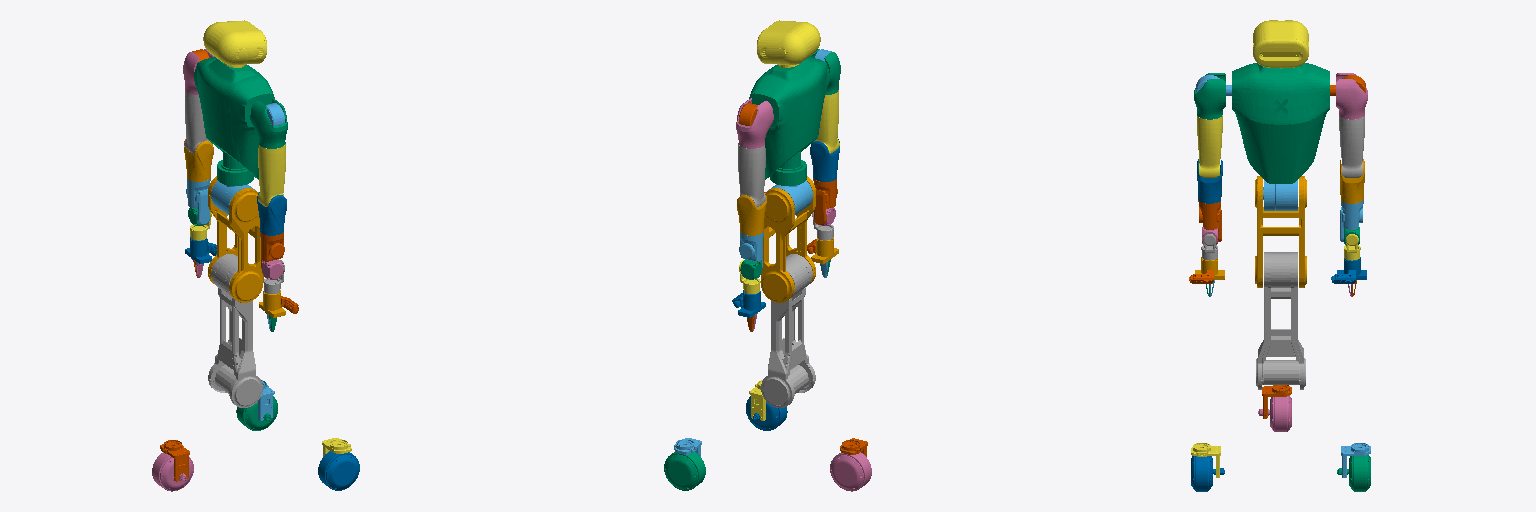
--- Render facts (derived) ---
3 views of the same robot in one strip: view 1: azimuth 30°, elevation 25°; view 2: azimuth 150°, elevation 25°; view 3: azimuth 270°, elevation 25° (orthographic).
Model R1Pro with 38 links and 37 joints (21 revolute, 3 continuous, 4 prismatic, 9 fixed), rooted at base_link, posed every joint at zero.
Visible links, largest first — view 1: torso_link4, torso_link1, torso_link2, zed_link, right_link3, wheel_motor_link2, right_link2, left_link3, left_link4, right_link4, wheel_motor_link3, left_link5 (+4 smaller); view 2: torso_link4, torso_link1, torso_link2, zed_link, left_link3, wheel_motor_link3, wheel_motor_link1, left_link2, right_link3, right_link4, left_link4, right_link5 (+3 smaller); view 3: torso_link4, torso_link1, zed_link, torso_link2, right_link3, left_link3, left_link2, right_link2, torso_link3, wheel_motor_link1, wheel_motor_link2, wheel_motor_link3 (+4 smaller).
Boxes of the visible links, left/top/right/bottom form: torso_link4: left=194, top=57, right=274, bottom=185; torso_link1: left=208, top=254, right=262, bottom=407; torso_link2: left=208, top=176, right=263, bottom=302; zed_link: left=203, top=20, right=266, bottom=67; right_link3: left=258, top=144, right=285, bottom=206; wheel_motor_link2: left=318, top=451, right=359, bottom=490; right_link2: left=250, top=98, right=287, bottom=148; left_link3: left=184, top=90, right=209, bottom=153; left_link4: left=184, top=137, right=213, bottom=181; right_link4: left=257, top=192, right=286, bottom=235; wheel_motor_link3: left=152, top=452, right=193, bottom=491; left_link5: left=186, top=178, right=210, bottom=224; torso_link4: left=749, top=57, right=829, bottom=185; torso_link1: left=761, top=254, right=815, bottom=407; torso_link2: left=761, top=176, right=815, bottom=302; zed_link: left=757, top=20, right=820, bottom=67; left_link3: left=738, top=144, right=765, bottom=206; wheel_motor_link3: left=830, top=452, right=871, bottom=491; wheel_motor_link1: left=664, top=452, right=705, bottom=490; left_link2: left=736, top=98, right=773, bottom=148; right_link3: left=814, top=90, right=839, bottom=153; right_link4: left=810, top=137, right=839, bottom=181; left_link4: left=737, top=192, right=766, bottom=235; right_link5: left=813, top=178, right=837, bottom=224; torso_link4: left=1232, top=63, right=1329, bottom=183; torso_link1: left=1256, top=252, right=1305, bottom=389; zed_link: left=1253, top=20, right=1308, bottom=68; torso_link2: left=1255, top=176, right=1306, bottom=287; right_link3: left=1197, top=115, right=1222, bottom=177; left_link3: left=1339, top=115, right=1364, bottom=177; left_link2: left=1336, top=73, right=1367, bottom=119; right_link2: left=1194, top=73, right=1225, bottom=119; torso_link3: left=1263, top=180, right=1297, bottom=210; wheel_motor_link1: left=1337, top=455, right=1370, bottom=491; wheel_motor_link2: left=1191, top=456, right=1224, bottom=491; wheel_motor_link3: left=1258, top=395, right=1291, bottom=431.
Size in the robot's own frame: 0.636 by 0.6454 by 1.7 metres.
35 mesh visuals loaded from 19 distinct referenced files (18 OBJ); not drawn: 1 (reference not matched to a file when rendering).

robot.urdf — R1Pro:
<?xml version="1.0" ?>
<!-- =================================================================================== -->
<!-- |    This document was autogenerated by xacro from robot.xacro                    | -->
<!-- |    EDITING THIS FILE BY HAND IS NOT RECOMMENDED                                 | -->
<!-- =================================================================================== -->
<robot name="R1Pro">
  <!-- Base Link -->
  <link name="base_link">
    <inertial>
      <origin xyz="-0.0024126 -8.9626E-05 0.13736"/>
      <mass value="47.63"/>
      <inertia ixx="1.578" ixy="-1.2021E-05" ixz="0.053642" iyy="1.462" iyz="7.297E-06" izz="2.8318"/>
    </inertial>
    <visual>
      <geometry>
        <mesh filename="package://galaxea_r1_description/meshes/base_link.obj"/>
      </geometry>
    </visual>
    <collision>
      <geometry>
        <mesh filename="package://galaxea_r1_description/meshes/base_link.obj"/>
      </geometry>
    </collision>
  </link>
  <!-- Steer Motor Link 1 -->
  <link name="steer_motor_link1">
    <inertial>
      <origin xyz="0.00098921 -0.034312 -0.034597"/>
      <mass value="1.2"/>
      <inertia ixx="8.8522E-05" ixy="-3.7755E-06" ixz="4.5456E-09" iyy="7.5352E-05" iyz="-7.0316E-07" izz="0.00010165"/>
    </inertial>
    <visual>
      <geometry>
        <mesh filename="package://galaxea_r1_description/meshes/steer_motor.obj"/>
      </geometry>
    </visual>
    <collision>
      <geometry>
        <mesh filename="package://galaxea_r1_description/meshes/steer_motor.obj"/>
      </geometry>
    </collision>
  </link>
  <!-- Steer Motor Joint 1: Base to Steer Motor 1 -->
  <joint name="steer_motor_joint1" type="revolute">
    <origin xyz="0.21516 0.28 0.12375"/>
    <parent link="base_link"/>
    <child link="steer_motor_link1"/>
    <axis xyz="0 0 1"/>
    <limit effort="44" lower="-1.5708" upper="1.5708" velocity="3.1416"/>
  </joint>
  <!-- Wheel Motor Link 1 -->
  <link name="wheel_motor_link1">
    <inertial>
      <origin xyz="-2.6184E-06 0.0015607 1.6575E-07"/>
      <mass value="5"/>
      <inertia ixx="0.00089952" ixy="6.916E-08" ixz="7.5501E-10" iyy="0.0015854" iyz="7.6011E-12" izz="0.00089958"/>
    </inertial>
    <visual>
      <geometry>
        <mesh filename="package://galaxea_r1_description/meshes/wheel_motor.obj"/>
      </geometry>
    </visual>
    <collision>
      <geometry>
        <mesh filename="package://galaxea_r1_description/meshes/wheel_motor.obj"/>
      </geometry>
    </collision>
  </link>
  <!-- Wheel Motor Joint 1: Steer Motor 1 to Wheel Motor 1 -->
  <joint name="wheel_motor_joint1" type="continuous">
    <origin rpy="0 0 3.14159" xyz="0 0 -0.09525"/>
    <parent link="steer_motor_link1"/>
    <child link="wheel_motor_link1"/>
    <axis xyz="0 1 0"/>
  </joint>
  <!-- Steer Motor Link 2 -->
  <link name="steer_motor_link2">
    <inertial>
      <origin xyz="0.00098879 0.034317 -0.034601"/>
      <mass value="1.2"/>
      <inertia ixx="8.8509E-05" ixy="3.7728E-06" ixz="4.584E-09" iyy="7.5337E-05" iyz="7.0145E-07" izz="0.00010162"/>
    </inertial>
    <visual>
      <origin rpy="0 0 3.14159"/>
      <geometry>
        <mesh filename="package://galaxea_r1_description/meshes/steer_motor.obj"/>
      </geometry>
    </visual>
    <collision>
      <origin rpy="0 0 3.14159"/>
      <geometry>
        <mesh filename="package://galaxea_r1_description/meshes/steer_motor.obj"/>
      </geometry>
    </collision>
  </link>
  <!-- Steer Motor Joint 2: Base to Steer Motor 2 -->
  <joint name="steer_motor_joint2" type="revolute">
    <origin xyz="0.21516 -0.28 0.12375"/>
    <parent link="base_link"/>
    <child link="steer_motor_link2"/>
    <axis xyz="0 0 1"/>
    <limit effort="44" lower="-1.5708" upper="1.5708" velocity="3.1416"/>
  </joint>
  <!-- Wheel Motor Link 2 -->
  <link name="wheel_motor_link2">
    <inertial>
      <origin xyz="2.6199E-06 -0.0015607 1.6573E-07"/>
      <mass value="5"/>
      <inertia ixx="0.00089952" ixy="6.9163E-08" ixz="-7.5368E-10" iyy="0.0015854" iyz="-7.6749E-12" izz="0.00089958"/>
    </inertial>
    <visual>
      <geometry>
        <mesh filename="package://galaxea_r1_description/meshes/wheel_motor.obj"/>
      </geometry>
    </visual>
    <collision>
      <geometry>
        <mesh filename="package://galaxea_r1_description/meshes/wheel_motor.obj"/>
      </geometry>
    </collision>
  </link>
  <!-- Wheel Motor Joint 2: Steer Motor 2 to Wheel Motor 2 -->
  <joint name="wheel_motor_joint2" type="continuous">
    <origin xyz="0 0 -0.09525"/>
    <parent link="steer_motor_link2"/>
    <child link="wheel_motor_link2"/>
    <axis xyz="0 1 0"/>
  </joint>
  <!-- Steer Motor Link 3 -->
  <link name="steer_motor_link3">
    <inertial>
      <origin xyz="-0.00098879 -0.034317 -0.034601"/>
      <mass value="1.2"/>
      <inertia ixx="8.8509E-05" ixy="3.7728E-06" ixz="-4.584E-09" iyy="7.5337E-05" iyz="-7.0145E-07" izz="0.00010162"/>
    </inertial>
    <visual>
      <geometry>
        <mesh filename="package://galaxea_r1_description/meshes/steer_motor.obj"/>
      </geometry>
    </visual>
    <collision>
      <geometry>
        <mesh filename="package://galaxea_r1_description/meshes/steer_motor.obj"/>
      </geometry>
    </collision>
  </link>
  <!-- Steer Motor Joint 3: Base to Steer Motor 3 -->
  <joint name="steer_motor_joint3" type="revolute">
    <origin xyz="-0.28084 0 0.12375"/>
    <parent link="base_link"/>
    <child link="steer_motor_link3"/>
    <axis xyz="0 0 1"/>
    <limit effort="44" lower="-1.5708" upper="1.5708" velocity="3.1416"/>
  </joint>
  <!-- Wheel Motor Link 3 -->
  <link name="wheel_motor_link3">
    <inertial>
      <origin xyz="2.6203E-06 0.0015607 -1.6564E-07"/>
      <mass value="5"/>
      <inertia ixx="0.00089952" ixy="-6.9072E-08" ixz="7.5036E-10" iyy="0.0015854" iyz="-7.845E-12" izz="0.00089958"/>
    </inertial>
    <visual>
      <geometry>
        <mesh filename="package://galaxea_r1_description/meshes/wheel_motor.obj"/>
      </geometry>
    </visual>
    <collision>
      <geometry>
        <mesh filename="package://galaxea_r1_description/meshes/wheel_motor.obj"/>
      </geometry>
    </collision>
  </link>
  <!-- Wheel Motor Joint 3: Steer Motor 3 to Wheel Motor 3 -->
  <joint name="wheel_motor_joint3" type="continuous">
    <origin rpy="0 0 3.14159" xyz="0 0 -0.09525"/>
    <parent link="steer_motor_link3"/>
    <child link="wheel_motor_link3"/>
    <axis xyz="0 1 0"/>
  </joint>
  <!-- Torso Link 1 -->
  <link name="torso_link1">
    <inertial>
      <origin xyz="0.00065636 0.0032247 0.23142"/>
      <mass value="5.72"/>
      <inertia ixx="0.10931" ixy="7.7893E-06" ixz="-0.00017473" iyy="0.10736" iyz="0.00013763" izz="0.0081222"/>
    </inertial>
    <visual>
      <geometry>
        <mesh filename="package://galaxea_r1_description/meshes/torso_link1.obj"/>
      </geometry>
    </visual>
    <collision>
      <geometry>
        <mesh filename="package://galaxea_r1_description/meshes/torso_link1.obj"/>
      </geometry>
    </collision>
  </link>
  <!-- Torso Joint 1: Base to Torso 1 -->
  <joint name="torso_joint1" type="revolute">
    <origin xyz="-0.032845 0 0.301"/>
    <parent link="base_link"/>
    <child link="torso_link1"/>
    <axis xyz="0 1 0"/>
    <limit effort="500" lower="-1.1345" upper="1.8326" velocity="2.5"/>
  </joint>
  <!-- Torso Link 2 -->
  <link name="torso_link2">
    <inertial>
      <origin xyz="0.0052517 0.014412 0.15711"/>
      <mass value="3.5"/>
      <inertia ixx="0.026081" ixy="-3.3406E-07" ixz="0.00024541" iyy="0.027574" iyz="3.8474E-07" izz="0.0018515"/>
    </inertial>
    <visual>
      <geometry>
        <mesh filename="package://galaxea_r1_description/meshes/torso_link2.obj"/>
      </geometry>
    </visual>
    <collision>
      <geometry>
        <mesh filename="package://galaxea_r1_description/meshes/torso_link2.obj"/>
      </geometry>
    </collision>
  </link>
  <!-- Torso Joint 2: Torso 1 to Torso 2 -->
  <joint name="torso_joint2" type="revolute">
    <origin xyz="0 0 0.4"/>
    <parent link="torso_link1"/>
    <child link="torso_link2"/>
    <axis xyz="0 1 0"/>
    <limit effort="500" lower="-2.7925" upper="2.5307" velocity="2.5"/>
  </joint>
  <!-- Torso Link 3 -->
  <link name="torso_link3">
    <inertial>
      <origin xyz="-7.551E-06 -0.0092667 0.0042124"/>
      <mass value="3.4"/>
      <inertia ixx="0.0014058" ixy="3.5487E-07" ixz="9.0955E-08" iyy="0.0021992" iyz="1.6338E-05" izz="0.0013332"/>
    </inertial>
    <visual>
      <geometry>
        <mesh filename="package://galaxea_r1_description/meshes/torso_link3.obj"/>
      </geometry>
    </visual>
    <collision>
      <geometry>
        <mesh filename="package://galaxea_r1_description/meshes/torso_link3.obj"/>
      </geometry>
    </collision>
  </link>
  <!-- Torso Joint 3: Torso 2 to Torso 3 -->
  <joint name="torso_joint3" type="revolute">
    <origin xyz="0 0 0.3"/>
    <parent link="torso_link2"/>
    <child link="torso_link3"/>
    <axis xyz="0 -1 0"/>
    <limit effort="500" lower="-1.8326" upper="1.5708" velocity="2.5"/>
  </joint>
  <!-- Torso Link 4 -->
  <link name="torso_link4">
    <inertial>
      <origin xyz="-3.7511E-08 5.2756E-07 0.018688"/>
      <mass value="7.4"/>
      <inertia ixx="0.0014989" ixy="2.9183E-08" ixz="-7.7884E-10" iyy="0.001499" iyz="-1.2513E-10" izz="0.0019043"/>
    </inertial>
    <visual>
      <geometry>
        <mesh filename="package://galaxea_r1_description/meshes/torso_link4.obj"/>
      </geometry>
    </visual>
    <collision>
      <geometry>
        <mesh filename="package://galaxea_r1_description/meshes/torso_link4.obj"/>
      </geometry>
    </collision>
  </link>
  <!-- Torso Joint 4: Torso 3 to Torso 4 -->
  <joint name="torso_joint4" type="revolute">
    <origin xyz="0 0 0.09962"/>
    <parent link="torso_link3"/>
    <child link="torso_link4"/>
    <axis xyz="0 0 1"/>
    <limit effort="500" lower="-3.0543" upper="3.0543" velocity="2.5"/>
  </joint>
  <!-- ZED Camera Link -->
  <link name="zed_link">
    <inertial>
      <origin xyz="0.060004 0.015906 -0.068413"/>
      <mass value="2.05"/>
      <inertia ixx="0.010375" ixy="1.9044E-07" ixz="1.5997E-08" iyy="0.014618" iyz="0.00028961" izz="0.012229"/>
    </inertial>
    <visual>
      <geometry>
        <mesh filename="package://galaxea_r1_description/meshes/zed_link.obj"/>
      </geometry>
    </visual>
    <collision>
      <geometry>
        <mesh filename="package://galaxea_r1_description/meshes/zed_link.obj"/>
      </geometry>
    </collision>
  </link>
  <!-- ZED Joint: Torso 4 to ZED -->
  <joint name="zed_joint" type="fixed">
    <origin rpy="-1.9199 0 -1.5708" xyz="0.065512 0.060005 0.47598"/>
    <parent link="torso_link4"/>
    <child link="zed_link"/>
    <axis xyz="0 0 0"/>
  </joint>
  <link name="left_base_link">
    <inertial>
      <origin xyz="0.00026981 0.034587 0"/>
      <mass value="1.48"/>
      <inertia ixx="0.0010298" ixy="5.2194E-06" ixz="-1.2182E-07" iyy="0.0014076" iyz="-3.9334E-09" izz="0.0010201"/>
    </inertial>
    <visual>
      <geometry>
        <mesh filename="package://galaxea_r1pro_description/meshes/pro_arm/base.obj" scale="1 1 1"/>
      </geometry>
    </visual>
    <collision>
      <geometry>
        <mesh filename="package://galaxea_r1pro_description/meshes/pro_arm/base.obj" scale="1 1 1"/>
      </geometry>
    </collision>
  </link>
  <!-- Arm Link 1 -->
  <link name="left_link1">
    <inertial>
      <origin xyz="0.00042258 0.074131 7.9156E-05"/>
      <mass value="1.135"/>
      <inertia ixx="0.00061603" ixy="-1.1635E-06" ixz="-6.9725E-07" iyy="0.00030259" iyz="-6.2894E-07" izz="0.00047136"/>
    </inertial>
    <visual>
      <geometry>
        <mesh filename="package://galaxea_r1pro_description/meshes/pro_arm/link1.obj" scale="1 1 1"/>
      </geometry>
    </visual>
    <collision>
      <geometry>
        <mesh filename="package://galaxea_r1pro_description/meshes/pro_arm/link1.obj" scale="1 1 1"/>
      </geometry>
    </collision>
  </link>
  <!-- Arm Link 2 -->
  <link name="left_link2">
    <inertial>
      <origin xyz="-0.026826 -0.0040392 -0.031835"/>
      <mass value="0.92"/>
      <inertia ixx="0.00037378" ixy="-7.5909E-07" ixz="2.9042E-06" iyy="0.00033872" iyz="1.2166E-05" izz="0.00032361"/>
    </inertial>
    <visual>
      <geometry>
        <mesh filename="package://galaxea_r1pro_description/meshes/pro_arm/link2.obj" scale="1 1 1"/>
      </geometry>
    </visual>
    <collision>
      <geometry>
        <mesh filename="package://galaxea_r1pro_description/meshes/pro_arm/link2.obj" scale="1 1 1"/>
      </geometry>
    </collision>
  </link>
  <!-- Arm Link 3 -->
  <link name="left_link3">
    <inertial>
      <origin xyz="0.0053849 -0.00086892 -0.1126"/>
      <mass value="1.245"/>
      <inertia ixx="0.00072339" ixy="-3.3477E-06" ixz="-0.00012824" iyy="0.00073856" iyz="-8.3574E-06" izz="0.00037352"/>
    </inertial>
    <visual>
      <geometry>
        <mesh filename="package://galaxea_r1pro_description/meshes/pro_arm/link3.obj"/>
      </geometry>
    </visual>
    <collision>
      <geometry>
        <mesh filename="package://galaxea_r1pro_description/meshes/pro_arm/link3.obj"/>
      </geometry>
    </collision>
  </link>
  <!-- Arm Link 4 -->
  <link name="left_link4">
    <inertial>
      <origin xyz="-0.0011018 -0.036243 -0.042164"/>
      <mass value="0.827"/>
      <inertia ixx="0.00013884" ixy="7.8394E-08" ixz="3.5926E-06" iyy="0.00019751" iyz="1.4227E-06" izz="0.00010229"/>
    </inertial>
    <visual>
      <geometry>
        <mesh filename="package://galaxea_r1pro_description/meshes/pro_arm/link4.obj"/>
      </geometry>
    </visual>
    <collision>
      <geometry>
        <mesh filename="package://galaxea_r1pro_description/meshes/pro_arm/link4.obj"/>
      </geometry>
    </collision>
  </link>
  <!-- Arm Link 5 -->
  <link name="left_link5">
    <inertial>
      <origin xyz="0 -0.0028035 -0.062981"/>
      <mass value="0.939"/>
      <inertia ixx="0.00070496" ixy="1.4329E-08" ixz="-2.9036E-09" iyy="0.00067006" iyz="-5.1951E-05" izz="0.00032998"/>
    </inertial>
    <visual>
      <geometry>
        <mesh filename="package://galaxea_r1pro_description/meshes/pro_arm/link5.obj" scale="1 1 1"/>
      </geometry>
    </visual>
    <collision>
      <geometry>
        <mesh filename="package://galaxea_r1pro_description/meshes/pro_arm/link5.obj" scale="1 1 1"/>
      </geometry>
    </collision>
  </link>
  <!-- Arm Link 6 -->
  <link name="left_link6">
    <inertial>
      <origin xyz="0.0017919 0.027487 0.00025471"/>
      <mass value="0.527"/>
      <inertia ixx="8.5442E-05" ixy="-1.5351E-07" ixz="8.3797E-07" iyy="8.1186E-05" iyz="-2.1972E-08" izz="8.2736E-05"/>
    </inertial>
    <visual>
      <geometry>
        <mesh filename="package://galaxea_r1pro_description/meshes/pro_arm/link6.obj" scale="1 1 1"/>
      </geometry>
    </visual>
    <collision>
      <geometry>
        <mesh filename="package://galaxea_r1pro_description/meshes/pro_arm/link6.obj" scale="1 1 1"/>
      </geometry>
    </collision>
  </link>
  <!-- Arm Link 7 -->
  <link name="left_link7">
    <inertial>
      <origin xyz="-0.022945 0 -0.056525"/>
      <mass value="0.185"/>
      <inertia ixx="4.2564E-05" ixy="-2.1577E-09" ixz="-6.9368E-06" iyy="4.5515E-05" iyz="-1.9389E-09" izz="4.7946E-05"/>
    </inertial>
    <visual>
      <geometry>
        <mesh filename="package://galaxea_r1pro_description/meshes/pro_arm/link7.obj"/>
      </geometry>
    </visual>
    <collision>
      <geometry>
        <mesh filename="package://galaxea_r1pro_description/meshes/pro_arm/link7.obj"/>
      </geometry>
    </collision>
  </link>
  <!-- Arm Joints and Links -->
  <joint name="left_base_joint" type="fixed">
    <origin xyz="-0.00048618 0.097234 0.30302"/>
    <parent link="torso_link4"/>
    <child link="left_base_link"/>
  </joint>
  <!-- Arm Joints -->
  <joint name="left_joint1" type="revolute">
    <origin xyz="0 0.0735 0"/>
    <parent link="left_base_link"/>
    <child link="left_link1"/>
    <axis xyz="0 1 0"/>
    <limit effort="55" lower="-4.4506" upper="1.3090" velocity="7.1209"/>
  </joint>
  <joint name="left_joint2" type="revolute">
    <origin xyz="0.025012 0.081265 0"/>
    <parent link="left_link1"/>
    <child link="left_link2"/>
    <axis xyz="1 0 0"/>
    <limit effort="55" lower="-0.1745" upper="3.1416" velocity="7.1209"/>
  </joint>
  <joint name="left_joint3" type="revolute">
    <origin xyz="-0.025012 0 -0.1155"/>
    <parent link="left_link2"/>
    <child link="left_link3"/>
    <axis xyz="0 0 1"/>
    <limit effort="25" lower="-2.356196" upper="2.356196" velocity="8.3776"/>
  </joint>
  <joint name="left_joint4" type="revolute">
    <origin xyz="0 0.035065 -0.1945"/>
    <parent link="left_link3"/>
    <child link="left_link4"/>
    <axis xyz="0 1 0"/>
    <limit effort="25" lower="-2.0944" upper="0.3491" velocity="8.3776"/>
  </joint>
  <joint name="left_joint5" type="revolute">
    <origin xyz="0 -0.035065 -0.095"/>
    <parent link="left_link4"/>
    <child link="left_link5"/>
    <axis xyz="0 0 1"/>
    <limit effort="18" lower="-2.356196" upper="2.356196" velocity="10.4720"/>
  </joint>
  <joint name="left_joint6" type="revolute">
    <origin xyz="0 -0.028 -0.16305"/>
    <parent link="left_link5"/>
    <child link="left_link6"/>
    <axis xyz="0 1 0"/>
    <limit effort="18" lower="-1.047198" upper="1.047198" velocity="10.4720"/>
  </joint>
  <joint name="left_joint7" type="revolute">
    <origin xyz="0.0295 0.028 0"/>
    <parent link="left_link6"/>
    <child link="left_link7"/>
    <axis xyz="1 0 0"/>
    <limit effort="18" lower="-1.5708" upper="1.5708" velocity="10.4720"/>
  </joint>
  <link name="left_gripper_base">
    <inertial>
      <origin xyz="-0.0311072323899603 1.17979991887118E-08 7.93394685505433E-08"/>
      <mass value="0.604"/>
      <inertia ixx="0.000175881544189539" ixy="-6.06026450851008E-11" ixz="5.30643405624365E-10" iyy="9.86379407701341E-05" iyz="-8.18686692495892E-08" izz="0.000165121280580029"/>
    </inertial>
    <visual>
      <geometry>
        <mesh filename="package://galaxea_a1_description/meshes/gripper/gripper_link.obj"/>
      </geometry>
    </visual>
    <collision>
      <geometry>
        <mesh filename="package://galaxea_a1_description/meshes/gripper/gripper_link.obj"/>
      </geometry>
    </collision>
  </link>
  <link name="left_finger1">
    <inertial>
      <origin xyz="-0.0195895895552112 -0.0151136845490034 0.00542254359093075"/>
      <mass value="0.027"/>
      <inertia ixx="2.40569358477209E-06" ixy="3.9898459609048E-07" ixz="5.12152762183641E-08" iyy="5.71079298307516E-06" iyz="6.19467902008363E-08" izz="6.48482183930358E-06"/>
    </inertial>
    <visual>
      <geometry>
        <mesh filename="package://galaxea_a1_description/meshes/gripper/finger.obj"/>
      </geometry>
    </visual>
    <collision>
      <geometry>
        <mesh filename="package://galaxea_a1_description/meshes/gripper/finger.obj"/>
      </geometry>
    </collision>
  </link>
  <joint name="left_gripper_joint" type="prismatic">
    <origin xyz="0.03689 0.013453 0.00012059"/>
    <parent link="left_gripper_base"/>
    <child link="left_finger1"/>
    <axis xyz="0 1 0"/>
    <limit effort="100" lower="0" upper="0.05" velocity="0.25"/>
  </joint>
  <link name="left_finger2">
    <inertial>
      <origin xyz="-0.0195895857999098 0.0151136893508115 -0.00542254357246619"/>
      <mass value="0.027"/>
      <inertia ixx="2.40569340151687E-06" ixy="-3.98983784827124E-07" ixz="-5.12152683073981E-08" iyy="5.71079321589929E-06" iyz="6.19467953006536E-08" izz="6.48482187274222E-06"/>
    </inertial>
    <visual>
      <geometry>
        <mesh filename="package://galaxea_a1_description/meshes/gripper/finger.obj" scale="1 -1 -1"/>
      </geometry>
    </visual>
    <collision>
      <geometry>
        <mesh filename="package://galaxea_a1_description/meshes/gripper/finger.obj" scale="1 -1 -1"/>
      </geometry>
    </collision>
  </link>
  <joint name="left_gripper_joint2" type="prismatic">
    <origin xyz="0.03689 -0.013453 -0.00012059"/>
    <parent link="left_gripper_base"/>
    <child link="left_finger2"/>
    <axis xyz="0 -1 0"/>
    <limit effort="100" lower="0" upper="0.05" velocity="0.25"/>
    <mimic joint="left_gripper_joint" multiplier="1" offset="0"/>
  </joint>
  <link name="left_gripper_center"/>
  <joint name="left_gripper_center_joint" type="fixed">
    <origin xyz="0.03689 0 -0.00012059"/>
    <parent link="left_gripper_base"/>
    <child link="left_gripper_center"/>
  </joint>
  <joint name="left_gripper_base_joint" type="fixed">
    <origin rpy="0 1.5708 0" xyz="-0.0295 0 -0.16065"/>
    <parent link="left_link7"/>
    <child link="left_gripper_base"/>
  </joint>
  <link name="right_base_link">
    <inertial>
      <origin xyz="0.00026981 -0.034587 0"/>
      <mass value="1.48"/>
      <inertia ixx="0.0010298" ixy="5.2194E-06" ixz="-1.2182E-07" iyy="0.0014076" iyz="-3.9334E-09" izz="0.0010201"/>
    </inertial>
    <visual>
      <geometry>
        <mesh filename="package://galaxea_r1pro_description/meshes/pro_arm/base.obj" scale="1 -1 1"/>
      </geometry>
    </visual>
    <collision>
      <geometry>
        <mesh filename="package://galaxea_r1pro_description/meshes/pro_arm/base.obj" scale="1 -1 1"/>
      </geometry>
    </collision>
  </link>
  <!-- Arm Link 1 -->
  <link name="right_link1">
    <inertial>
      <origin xyz="0.00042258 -0.074131 7.9156E-05"/>
      <mass value="1.135"/>
      <inertia ixx="0.00061603" ixy="-1.1635E-06" ixz="-6.9725E-07" iyy="0.00030259" iyz="-6.2894E-07" izz="0.00047136"/>
    </inertial>
    <visual>
      <geometry>
        <mesh filename="package://galaxea_r1pro_description/meshes/pro_arm/link1.obj" scale="1 -1 1"/>
      </geometry>
    </visual>
    <collision>
      <geometry>
        <mesh filename="package://galaxea_r1pro_description/meshes/pro_arm/link1.obj" scale="1 -1 1"/>
      </geometry>
    </collision>
  </link>
  <!-- Arm Link 2 -->
  <link name="right_link2">
    <inertial>
      <origin xyz="-0.026826 0.0040392 -0.031835"/>
      <mass value="0.92"/>
      <inertia ixx="0.00037378" ixy="-7.5909E-07" ixz="2.9042E-06" iyy="0.00033872" iyz="1.2166E-05" izz="0.00032361"/>
    </inertial>
    <visual>
      <geometry>
        <mesh filename="package://galaxea_r1pro_description/meshes/pro_arm/link2.obj" scale="1 -1 1"/>
      </geometry>
    </visual>
    <collision>
      <geometry>
        <mesh filename="package://galaxea_r1pro_description/meshes/pro_arm/link2.obj" scale="1 -1 1"/>
      </geometry>
    </collision>
  </link>
  <!-- Arm Link 3 -->
  <link name="right_link3">
    <inertial>
      <origin xyz="0.0053849 -0.00086892 -0.1126"/>
      <mass value="1.245"/>
      <inertia ixx="0.00072339" ixy="-3.3477E-06" ixz="-0.00012824" iyy="0.00073856" iyz="-8.3574E-06" izz="0.00037352"/>
    </inertial>
    <visual>
      <geometry>
        <mesh filename="package://galaxea_r1pro_description/meshes/pro_arm/link3.obj"/>
      </geometry>
    </visual>
    <collision>
      <geometry>
        <mesh filename="package://galaxea_r1pro_description/meshes/pro_arm/link3.obj"/>
      </geometry>
    </collision>
  </link>
  <!-- Arm Link 4 -->
  <link name="right_link4">
    <inertial>
      <origin xyz="-0.0011018 -0.036243 -0.042164"/>
      <mass value="0.827"/>
      <inertia ixx="0.00013884" ixy="7.8394E-08" ixz="3.5926E-06" iyy="0.00019751" iyz="1.4227E-06" izz="0.00010229"/>
    </inertial>
    <visual>
      <geometry>
        <mesh filename="package://galaxea_r1pro_description/meshes/pro_arm/link4.obj"/>
      </geometry>
    </visual>
    <collision>
      <geometry>
        <mesh filename="package://galaxea_r1pro_description/meshes/pro_arm/link4.obj"/>
      </geometry>
    </collision>
  </link>
  <!-- Arm Link 5 -->
  <link name="right_link5">
    <inertial>
      <origin xyz="0 0.0028035 -0.062981"/>
      <mass value="0.939"/>
      <inertia ixx="0.00070496" ixy="1.4329E-08" ixz="-2.9036E-09" iyy="0.00067006" iyz="-5.1951E-05" izz="0.00032998"/>
    </inertial>
    <visual>
      <geometry>
        <mesh filename="package://galaxea_r1pro_description/meshes/pro_arm/link5.obj" scale="1 -1 1"/>
      </geometry>
    </visual>
    <collision>
      <geometry>
        <mesh filename="package://galaxea_r1pro_description/meshes/pro_arm/link5.obj" scale="1 -1 1"/>
      </geometry>
    </collision>
  </link>
  <!-- Arm Link 6 -->
  <link name="right_link6">
    <inertial>
      <origin xyz="0.0017919 -0.027487 0.00025471"/>
      <mass value="0.527"/>
      <inertia ixx="8.5442E-05" ixy="-1.5351E-07" ixz="8.3797E-07" iyy="8.1186E-05" iyz="-2.1972E-08" izz="8.2736E-05"/>
    </inertial>
    <visual>
      <geometry>
        <mesh filename="package://galaxea_r1pro_description/meshes/pro_arm/link6.obj" scale="1 -1 1"/>
      </geometry>
    </visual>
    <collision>
      <geometry>
        <mesh filename="package://galaxea_r1pro_description/meshes/pro_arm/link6.obj" scale="1 -1 1"/>
      </geometry>
    </collision>
  </link>
  <!-- Arm Link 7 -->
  <link name="right_link7">
    <inertial>
      <origin xyz="-0.022945 0 -0.056525"/>
      <mass value="0.185"/>
      <inertia ixx="4.2564E-05" ixy="-2.1577E-09" ixz="-6.9368E-06" iyy="4.5515E-05" iyz="-1.9389E-09" izz="4.7946E-05"/>
    </inertial>
    <visual>
      <geometry>
        <mesh filename="package://galaxea_r1pro_description/meshes/pro_arm/link7.obj"/>
      </geometry>
    </visual>
    <collision>
      <geometry>
        <mesh filename="package://galaxea_r1pro_description/meshes/pro_arm/link7.obj"/>
      </geometry>
    </collision>
  </link>
  <!-- Arm Joints and Links -->
  <joint name="right_base_joint" type="fixed">
    <origin xyz="-0.00048618 -0.097234 0.30302"/>
    <parent link="torso_link4"/>
    <child link="right_base_link"/>
  </joint>
  <!-- Arm Joints -->
  <joint name="right_joint1" type="revolute">
    <origin xyz="0 -0.0735 0"/>
    <parent link="right_base_link"/>
    <child link="right_link1"/>
    <axis xyz="0 1 0"/>
    <limit effort="55" lower="-4.4506" upper="1.3090" velocity="7.1209"/>
  </joint>
  <joint name="right_joint2" type="revolute">
    <origin xyz="0.025012 -0.081265 0"/>
    <parent link="right_link1"/>
    <child link="right_link2"/>
    <axis xyz="-1 0 0"/>
    <limit effort="55" lower="-0.1745" upper="3.1416" velocity="7.1209"/>
  </joint>
  <joint name="right_joint3" type="revolute">
    <origin xyz="-0.025012 0 -0.1155"/>
    <parent link="right_link2"/>
    <child link="right_link3"/>
    <axis xyz="0 0 1"/>
    <limit effort="25" lower="-2.356196" upper="2.356196" velocity="8.3776"/>
  </joint>
  <joint name="right_joint4" type="revolute">
    <origin xyz="0 0.035065 -0.1945"/>
    <parent link="right_link3"/>
    <child link="right_link4"/>
    <axis xyz="0 1 0"/>
    <limit effort="25" lower="-2.0944" upper="0.3491" velocity="8.3776"/>
  </joint>
  <joint name="right_joint5" type="revolute">
    <origin xyz="0 -0.035065 -0.095"/>
    <parent link="right_link4"/>
    <child link="right_link5"/>
    <axis xyz="0 0 1"/>
    <limit effort="18" lower="-2.356196" upper="2.356196" velocity="10.4720"/>
  </joint>
  <joint name="right_joint6" type="revolute">
    <origin xyz="0 0.028 -0.16305"/>
    <parent link="right_link5"/>
    <child link="right_link6"/>
    <axis xyz="0 1 0"/>
    <limit effort="18" lower="-1.047198" upper="1.047198" velocity="10.4720"/>
  </joint>
  <joint name="right_joint7" type="revolute">
    <origin xyz="0.0295 -0.028 0"/>
    <parent link="right_link6"/>
    <child link="right_link7"/>
    <axis xyz="1 0 0"/>
    <limit effort="18" lower="-1.5708" upper="1.5708" velocity="10.4720"/>
  </joint>
  <link name="right_gripper_base">
    <inertial>
      <origin xyz="-0.0311072323899603 1.17979991887118E-08 7.93394685505433E-08"/>
      <mass value="0.604"/>
      <inertia ixx="0.000175881544189539" ixy="-6.06026450851008E-11" ixz="5.30643405624365E-10" iyy="9.86379407701341E-05" iyz="-8.18686692495892E-08" izz="0.000165121280580029"/>
    </inertial>
    <visual>
      <geometry>
        <mesh filename="package://galaxea_a1_description/meshes/gripper/gripper_link.obj"/>
      </geometry>
    </visual>
    <collision>
      <geometry>
        <mesh filename="package://galaxea_a1_description/meshes/gripper/gripper_link.obj"/>
      </geometry>
    </collision>
  </link>
  <link name="right_finger1">
    <inertial>
      <origin xyz="-0.0195895895552112 -0.0151136845490034 0.00542254359093075"/>
      <mass value="0.027"/>
      <inertia ixx="2.40569358477209E-06" ixy="3.9898459609048E-07" ixz="5.12152762183641E-08" iyy="5.71079298307516E-06" iyz="6.19467902008363E-08" izz="6.48482183930358E-06"/>
    </inertial>
    <visual>
      <geometry>
        <mesh filename="package://galaxea_a1_description/meshes/gripper/finger.obj"/>
      </geometry>
    </visual>
    <collision>
      <geometry>
        <mesh filename="package://galaxea_a1_description/meshes/gripper/finger.obj"/>
      </geometry>
    </collision>
  </link>
  <joint name="right_gripper_joint" type="prismatic">
    <origin xyz="0.03689 0.013453 0.00012059"/>
    <parent link="right_gripper_base"/>
    <child link="right_finger1"/>
    <axis xyz="0 1 0"/>
    <limit effort="100" lower="0" upper="0.05" velocity="0.25"/>
  </joint>
  <link name="right_finger2">
    <inertial>
      <origin xyz="-0.0195895857999098 0.0151136893508115 -0.00542254357246619"/>
      <mass value="0.027"/>
      <inertia ixx="2.40569340151687E-06" ixy="-3.98983784827124E-07" ixz="-5.12152683073981E-08" iyy="5.71079321589929E-06" iyz="6.19467953006536E-08" izz="6.48482187274222E-06"/>
    </inertial>
    <visual>
      <geometry>
        <mesh filename="package://galaxea_a1_description/meshes/gripper/finger.obj" scale="1 -1 -1"/>
      </geometry>
    </visual>
    <collision>
      <geometry>
        <mesh filename="package://galaxea_a1_description/meshes/gripper/finger.obj" scale="1 -1 -1"/>
      </geometry>
    </collision>
  </link>
  <joint name="right_gripper_joint2" type="prismatic">
    <origin xyz="0.03689 -0.013453 -0.00012059"/>
    <parent link="right_gripper_base"/>
    <child link="right_finger2"/>
    <axis xyz="0 -1 0"/>
    <limit effort="100" lower="0" upper="0.05" velocity="0.25"/>
    <mimic joint="right_gripper_joint" multiplier="1" offset="0"/>
  </joint>
  <link name="right_gripper_center"/>
  <joint name="right_gripper_center_joint" type="fixed">
    <origin xyz="0.03689 0 -0.00012059"/>
    <parent link="right_gripper_base"/>
    <child link="right_gripper_center"/>
  </joint>
  <joint name="right_gripper_base_joint" type="fixed">
    <origin rpy="0 1.5708 0" xyz="-0.0295 0 -0.16065"/>
    <parent link="right_link7"/>
    <child link="right_gripper_base"/>
  </joint>
  <!-- RealSense Camera Link -->
  <link name="left_realsense_link">
    <inertial>
      <origin xyz="0.022169 0.0060171 -0.017353"/>
      <mass value="0.175"/>
      <inertia ixx="6.965E-06" ixy="2.6612E-06" ixz="1.2797E-06" iyy="2.3281E-05" iyz="-1.4268E-06" izz="2.5513E-05"/>
    </inertial>
    <visual>
      <geometry>
        <mesh filename="package://galaxea_r1_description/meshes/camera_link.obj"/>
      </geometry>
    </visual>
    <collision>
      <geometry>
        <mesh filename="package://galaxea_r1_description/meshes/camera_link.obj"/>
      </geometry>
    </collision>
  </link>
  <!-- RealSense Joint: Arm 7 to Camera -->
  <joint name="left_realsense_joint" type="fixed">
    <origin rpy="2.70516 -0.0077831 -1.5708" xyz="0.02101 0.0028934 -0.1555183"/>
    <parent link="left_link7"/>
    <child link="left_realsense_link"/>
  </joint>
  <!-- RealSense Camera Link -->
  <link name="right_realsense_link">
    <inertial>
      <origin xyz="0.022169 0.0060171 -0.017353"/>
      <mass value="0.175"/>
      <inertia ixx="6.965E-06" ixy="2.6612E-06" ixz="1.2797E-06" iyy="2.3281E-05" iyz="-1.4268E-06" izz="2.5513E-05"/>
    </inertial>
    <visual>
      <geometry>
        <mesh filename="package://galaxea_r1_description/meshes/camera_link.obj"/>
      </geometry>
    </visual>
    <collision>
      <geometry>
        <mesh filename="package://galaxea_r1_description/meshes/camera_link.obj"/>
      </geometry>
    </collision>
  </link>
  <!-- RealSense Joint: Arm 7 to Camera -->
  <joint name="right_realsense_joint" type="fixed">
    <origin rpy="2.70516 -0.0077831 -1.5708" xyz="0.02101 0.0028934 -0.1555183"/>
    <parent link="right_link7"/>
    <child link="right_realsense_link"/>
  </joint>
</robot>
